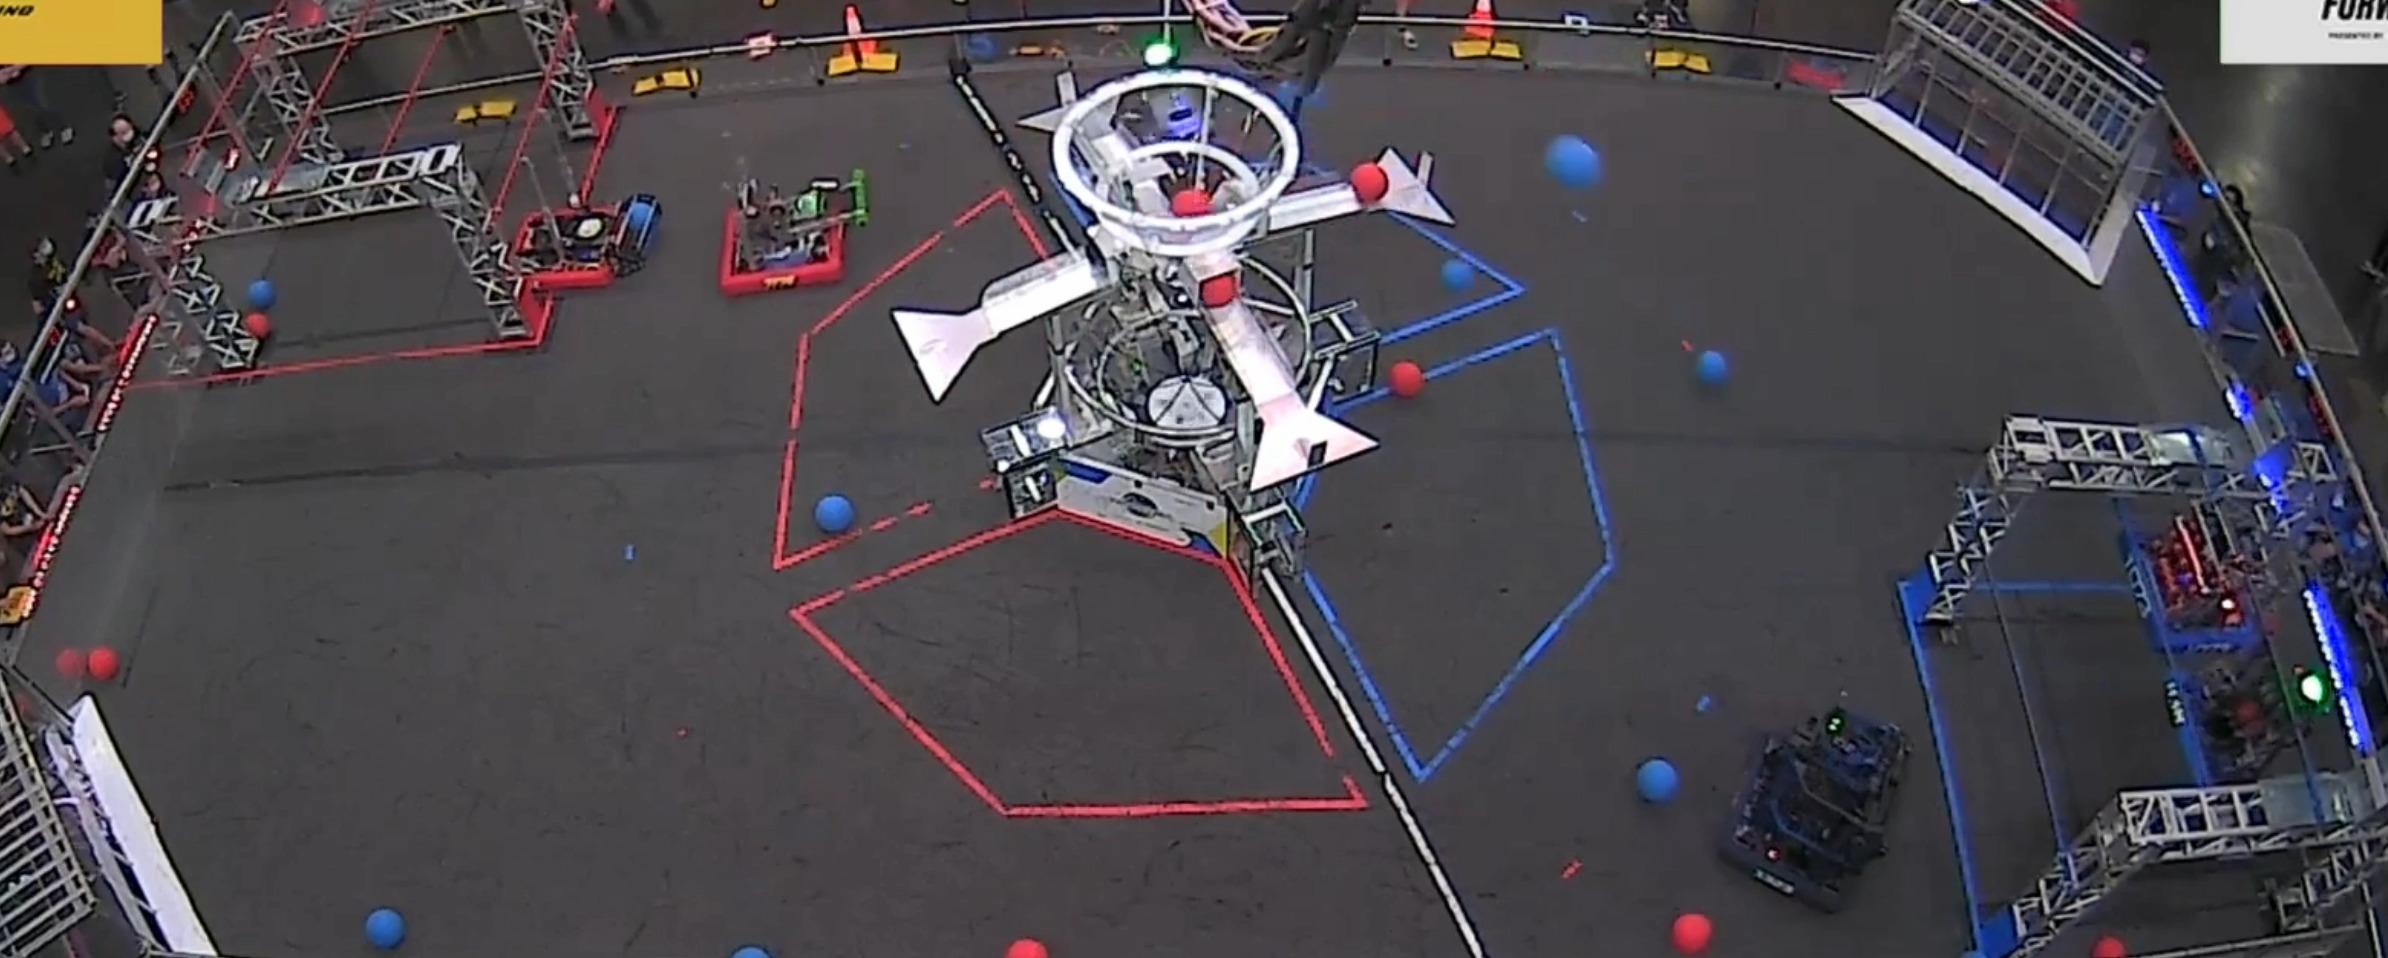Robots: (2105, 484, 2385, 638), (1719, 702, 1908, 912), (2158, 638, 2388, 769), (723, 164, 868, 289), (509, 187, 661, 294)
